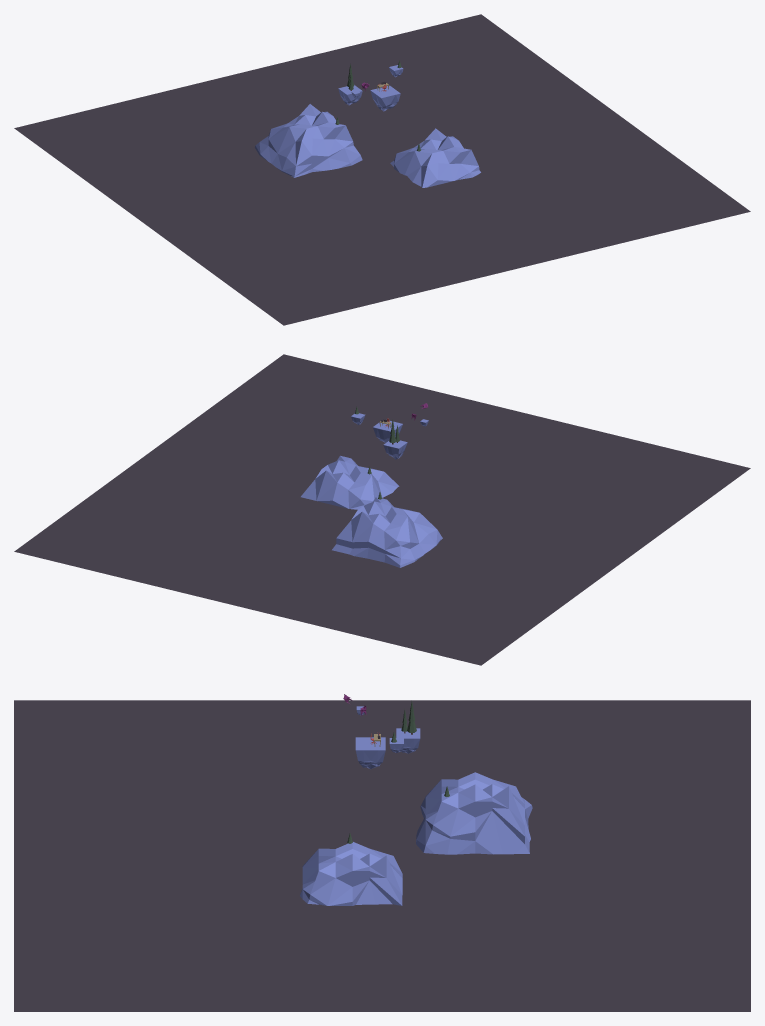
File: office-floating.dae
The picture shows the model from 3 angles, top to bottom: view 1: azimuth 30°, elevation 25°; view 2: azimuth 150°, elevation 25°; view 3: azimuth 270°, elevation 25°; orthographic projection. The views are drawn at different scales.
Parts seen in each view (by area): view 1: Plane, Cube_010, Cube_011, Cube_003; view 2: Plane, Cube_010, Cube_011; view 3: Plane, Cube_010, Cube_011, Cube_003.
Part boxes in pixels (x1=…): Plane: x1=14, y1=14, x2=750, y2=325; Cube_010: x1=255, y1=104, x2=362, y2=177; Cube_011: x1=390, y1=128, x2=480, y2=187; Cube_003: x1=370, y1=85, x2=400, y2=111; Plane: x1=14, y1=354, x2=750, y2=665; Cube_010: x1=332, y1=497, x2=442, y2=567; Cube_011: x1=301, y1=455, x2=399, y2=509; Plane: x1=14, y1=700, x2=750, y2=1011; Cube_010: x1=416, y1=772, x2=532, y2=854; Cube_011: x1=300, y1=842, x2=402, y2=905; Cube_003: x1=355, y1=737, x2=385, y2=769.
Size of the model in its own units: 88.7 by 88.7 by 28.86.
